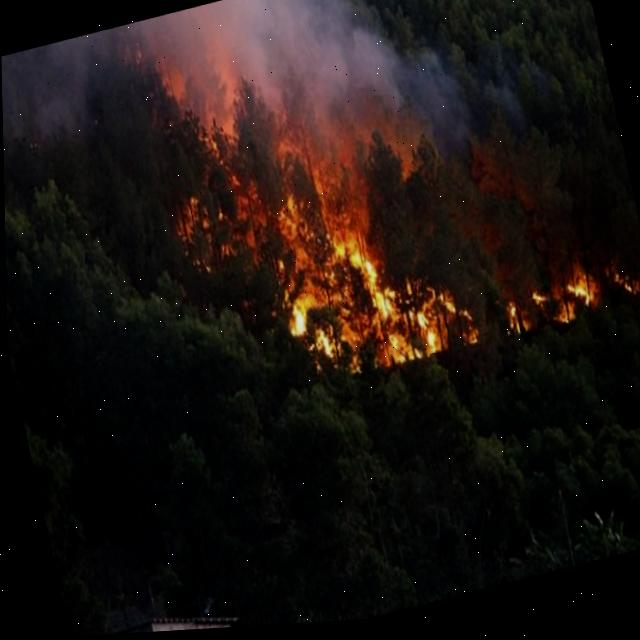fire: (258, 178, 423, 394), (410, 292, 470, 360), (555, 285, 605, 333)
smoke: (1, 0, 387, 160), (269, 48, 477, 194)
